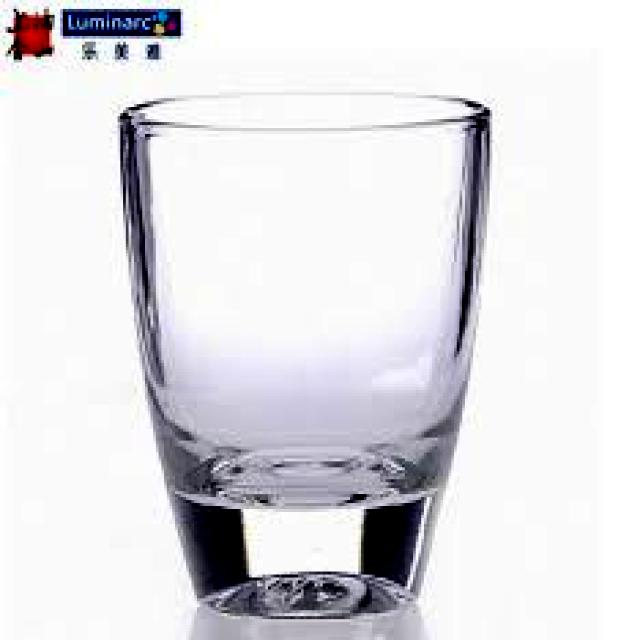Glass: (114, 83, 497, 623)
